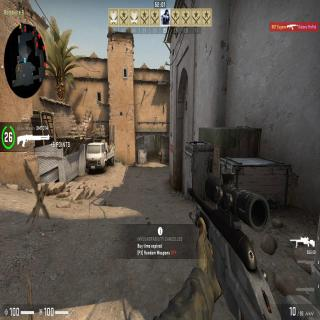T-Body: (160, 148, 162, 162)
T-Head: (160, 149, 161, 151)
